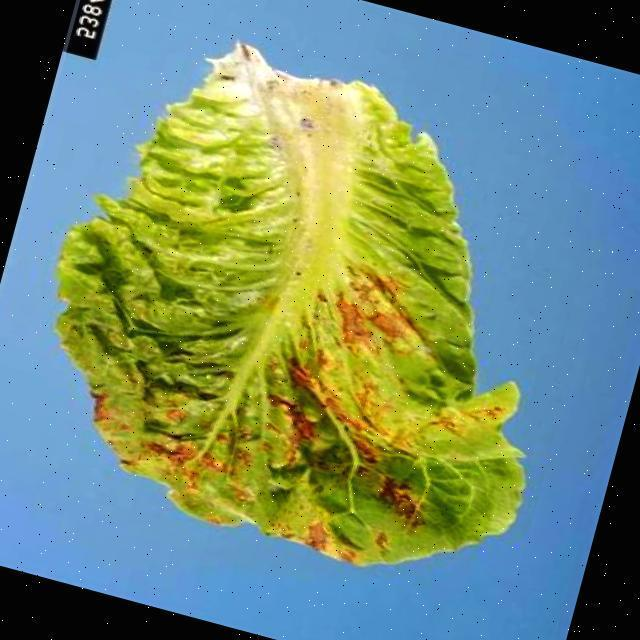Powdery_Mildew: (3, 14, 608, 605)
